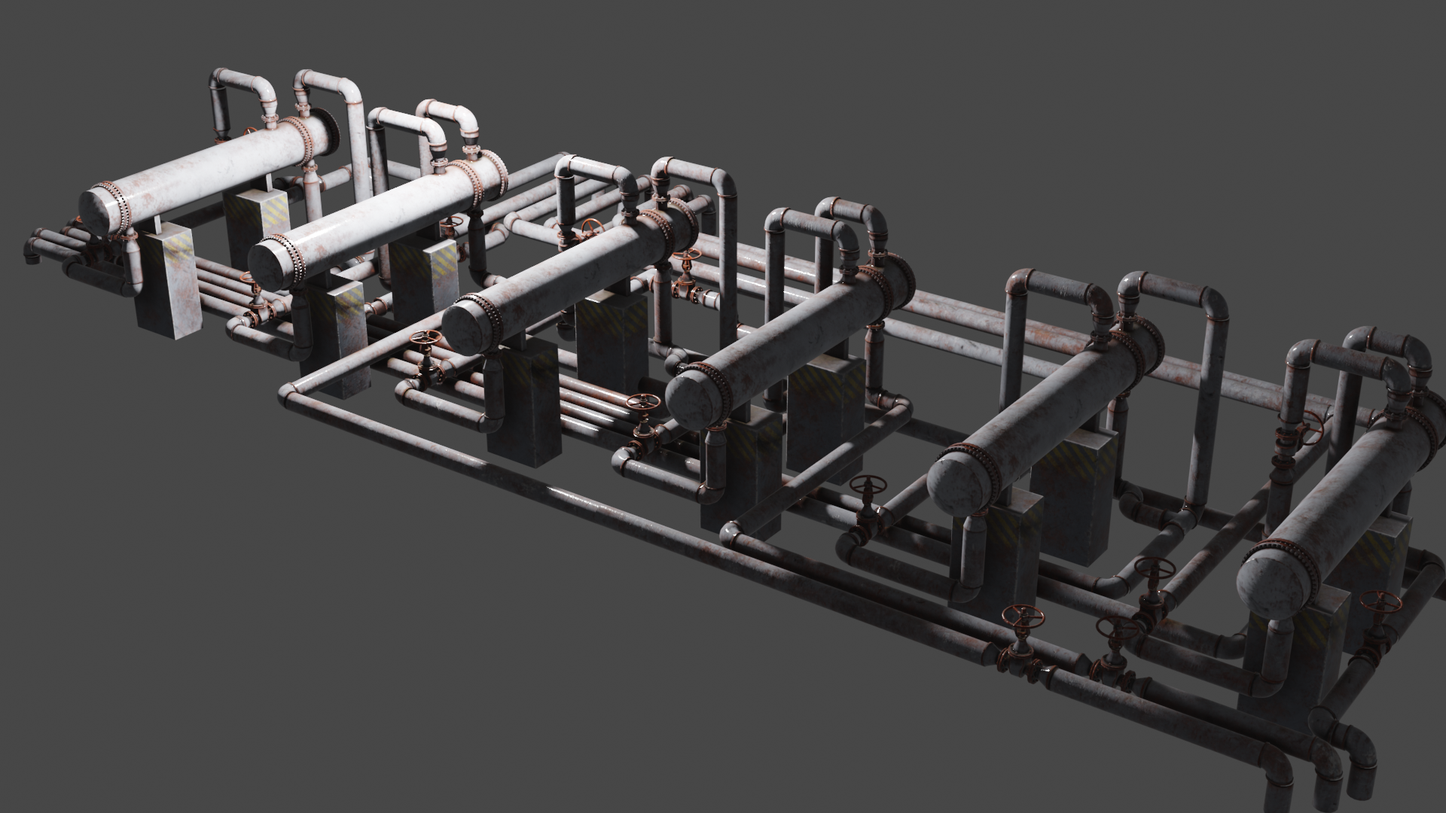HE_1: (1234, 387, 1446, 623)
HE_2: (925, 309, 1170, 520)
HE_3: (663, 251, 914, 436)
HE_4: (440, 194, 699, 357)
HE_5: (247, 147, 510, 294)
HE_6: (77, 104, 337, 234)
